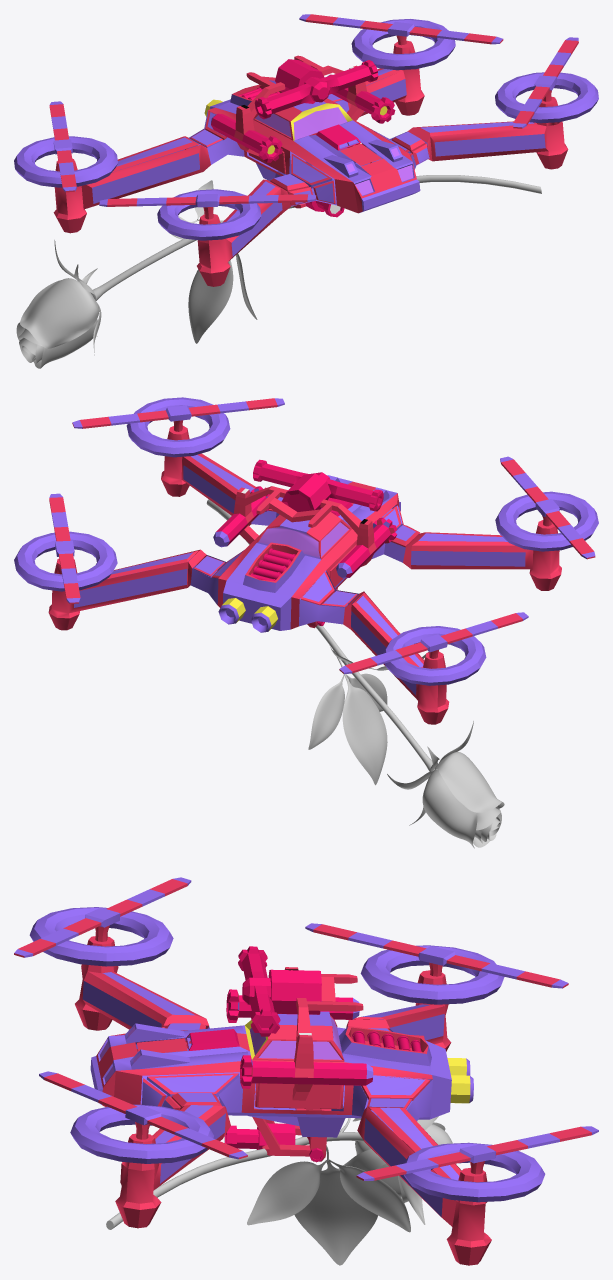
File: drone.gltf
3 renders of one model, top to bottom at view 1: azimuth 30°, elevation 25°; view 2: azimuth 150°, elevation 25°; view 3: azimuth 270°, elevation 25°, orthographic. The views are drawn at different scales.
Parts seen in each view (by area): view 1: drone_costum, 10452_Rose_Bush_v1_Iteration2; view 2: drone_costum, 10452_Rose_Bush_v1_Iteration2; view 3: drone_costum, 10452_Rose_Bush_v1_Iteration2.
Boxes of the visible parts, x1,y1,x2,y2 form: drone_costum: [14, 14, 598, 286]; 10452_Rose_Bush_v1_Iteration2: [16, 175, 541, 368]; drone_costum: [14, 397, 598, 724]; 10452_Rose_Bush_v1_Iteration2: [206, 499, 504, 848]; drone_costum: [14, 877, 598, 1265]; 10452_Rose_Bush_v1_Iteration2: [106, 1116, 452, 1265].
Bounding box in the file's own units: 3.09 × 1.66 × 2.42.
